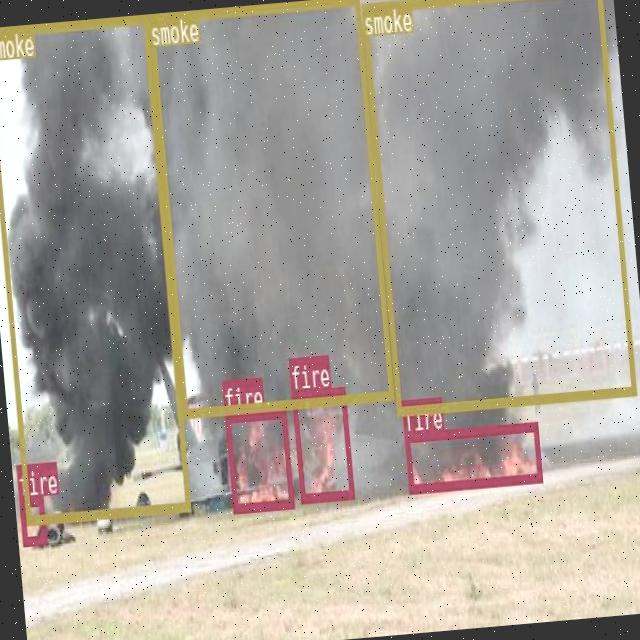fire: (403, 421, 542, 492), (224, 406, 293, 512), (290, 385, 353, 501), (18, 494, 46, 544)
smoke: (360, 0, 635, 413), (148, 0, 392, 415), (0, 14, 189, 521)
